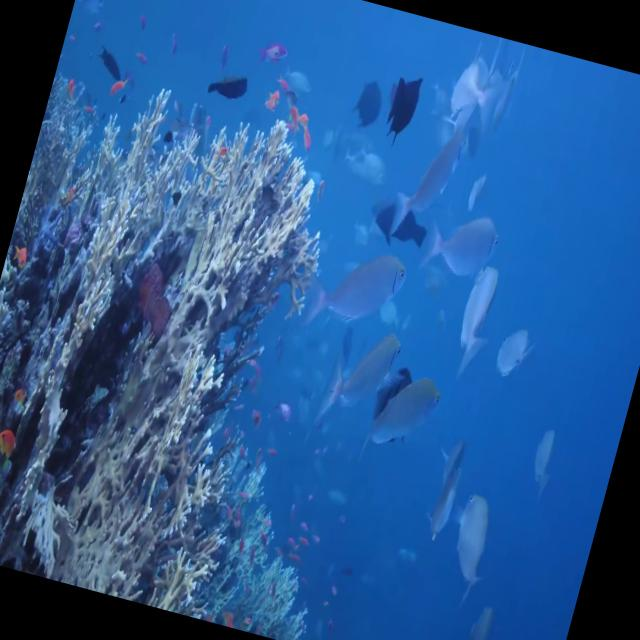fish: (299, 238, 411, 342), (307, 319, 404, 436), (354, 367, 444, 470), (439, 487, 504, 606), (422, 208, 506, 284), (452, 262, 504, 370), (376, 68, 427, 151), (523, 428, 565, 502)
